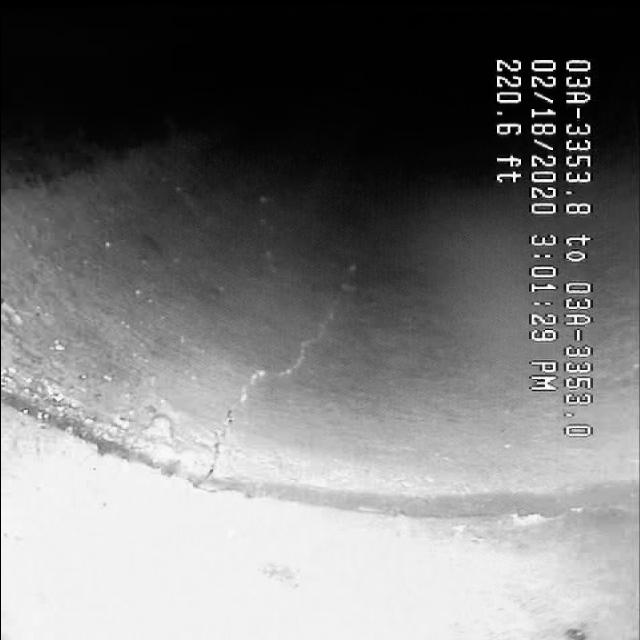Crack: (182, 272, 382, 478)
